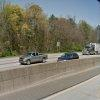Car: (15, 45, 50, 70)
